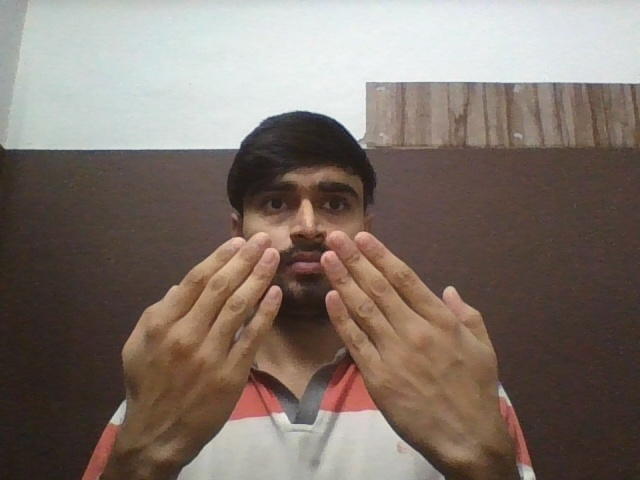Thankyou: (120, 234, 515, 458)
